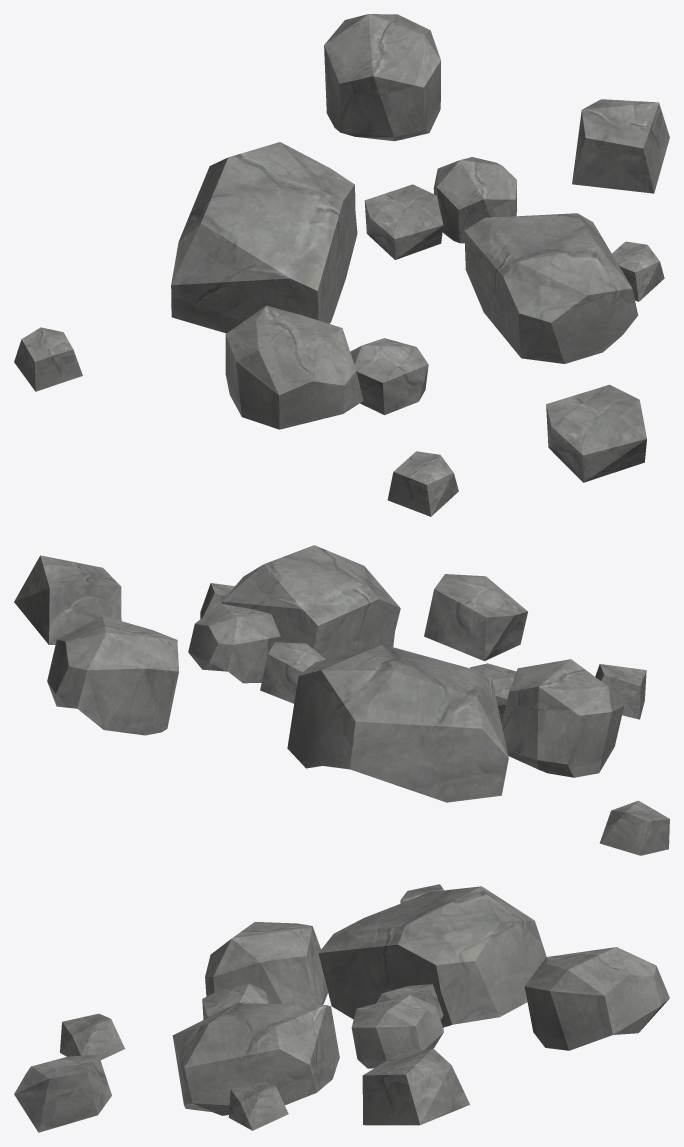
File: CollectibleStone.fbx
3 renders of one model, top to bottom at view 1: azimuth 30°, elevation 25°; view 2: azimuth 150°, elevation 25°; view 3: azimuth 270°, elevation 25°, orthographic. The views are drawn at different scales.
Parts seen in each view (by area): view 1: ItemBox_Pebbles_01; view 2: ItemBox_Pebbles_01; view 3: ItemBox_Pebbles_01.
Boxes of the visible parts, left/top/right/bottom form: ItemBox_Pebbles_01: left=14, top=14, right=669, bottom=516; ItemBox_Pebbles_01: left=14, top=545, right=669, bottom=855; ItemBox_Pebbles_01: left=14, top=884, right=669, bottom=1132.
Size of the model in its own units: 1.63 by 0.5514 by 1.54.
Materials: 1 (1 with a texture image).
